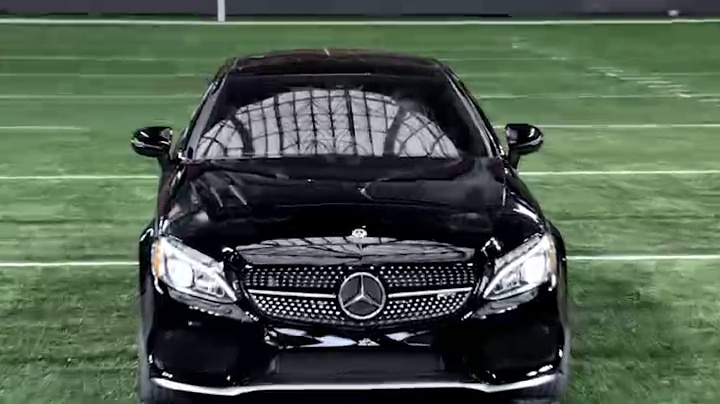amg: (124, 46, 568, 404)
